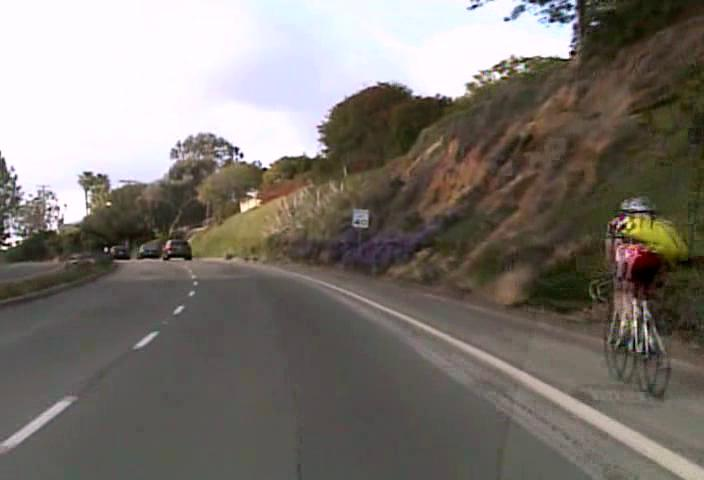speedLimit40: (351, 207, 369, 228)
